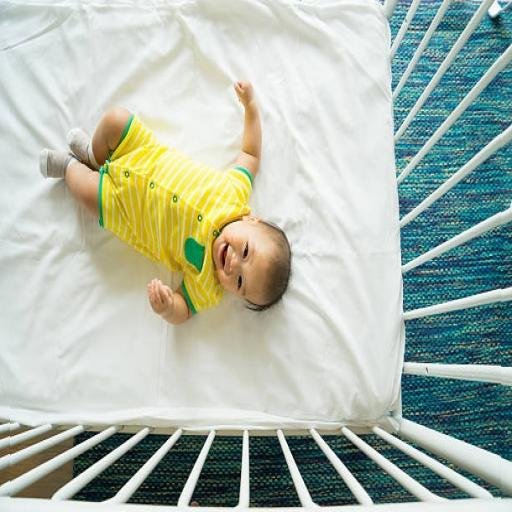baby: (40, 82, 291, 324)
crib: (0, 0, 511, 510)
